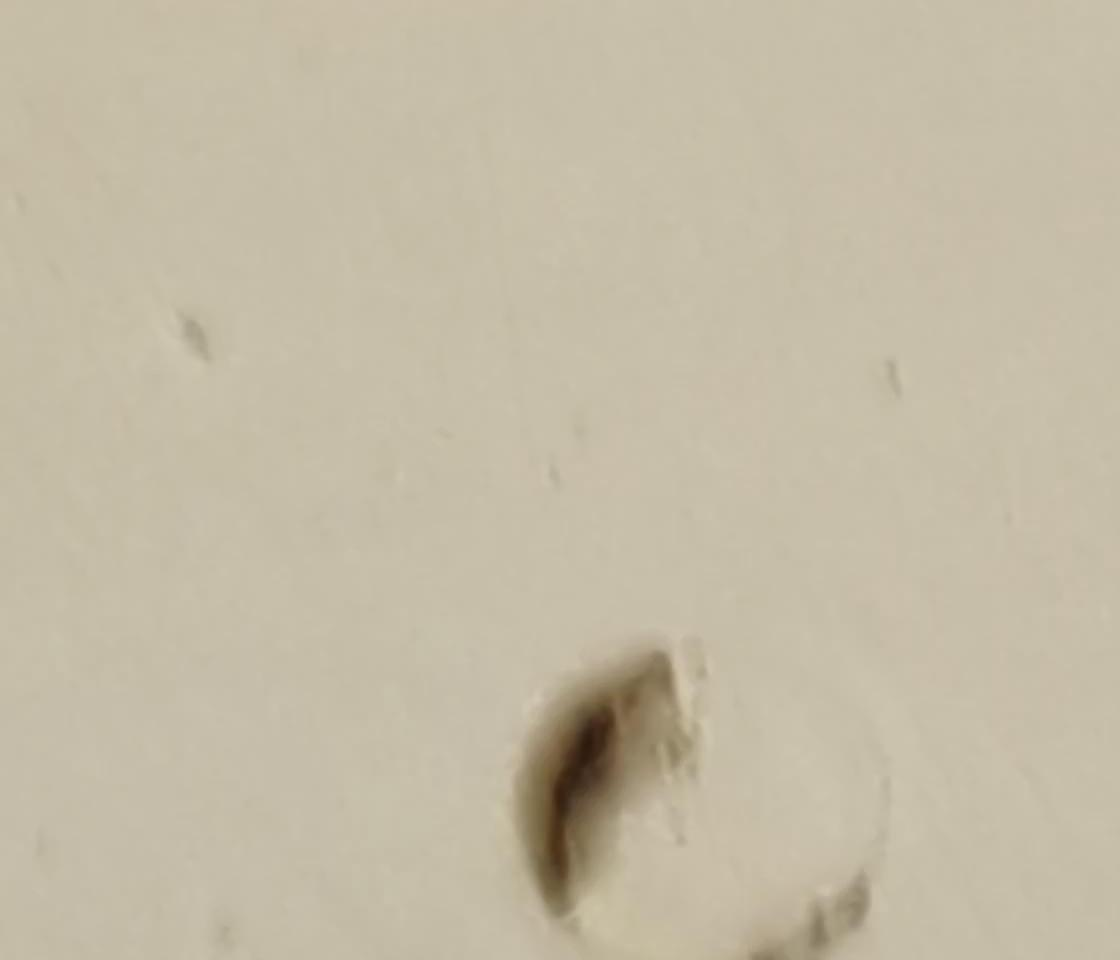rust: (532, 697, 624, 821)
